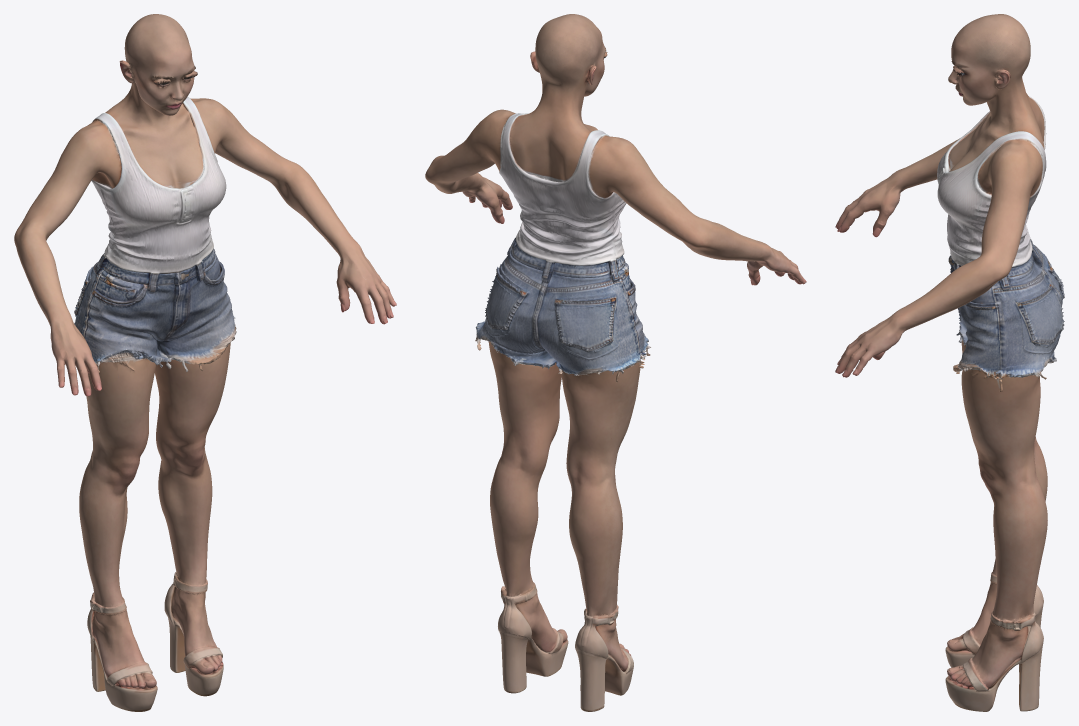
File: reference_original.glb
3 renders of one model, left to right at view 1: azimuth 30°, elevation 25°; view 2: azimuth 150°, elevation 25°; view 3: azimuth 270°, elevation 25°, orthographic.
Parts seen in each view (by area): view 1: tripo_node_0018f969-cb98-4bfd-b0a9-c2285394e987; view 2: tripo_node_0018f969-cb98-4bfd-b0a9-c2285394e987; view 3: tripo_node_0018f969-cb98-4bfd-b0a9-c2285394e987.
Part boxes in pixels (<box>): tripo_node_0018f969-cb98-4bfd-b0a9-c2285394e987: <box>14,14,396,711</box>; tripo_node_0018f969-cb98-4bfd-b0a9-c2285394e987: <box>425,14,806,711</box>; tripo_node_0018f969-cb98-4bfd-b0a9-c2285394e987: <box>835,14,1064,711</box>.
Size of the model in its own units: 0.514 by 0.9796 by 0.3033.
Materials: 1 (1 with a texture image).
